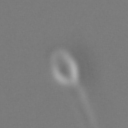normal: (72, 84, 99, 127)
